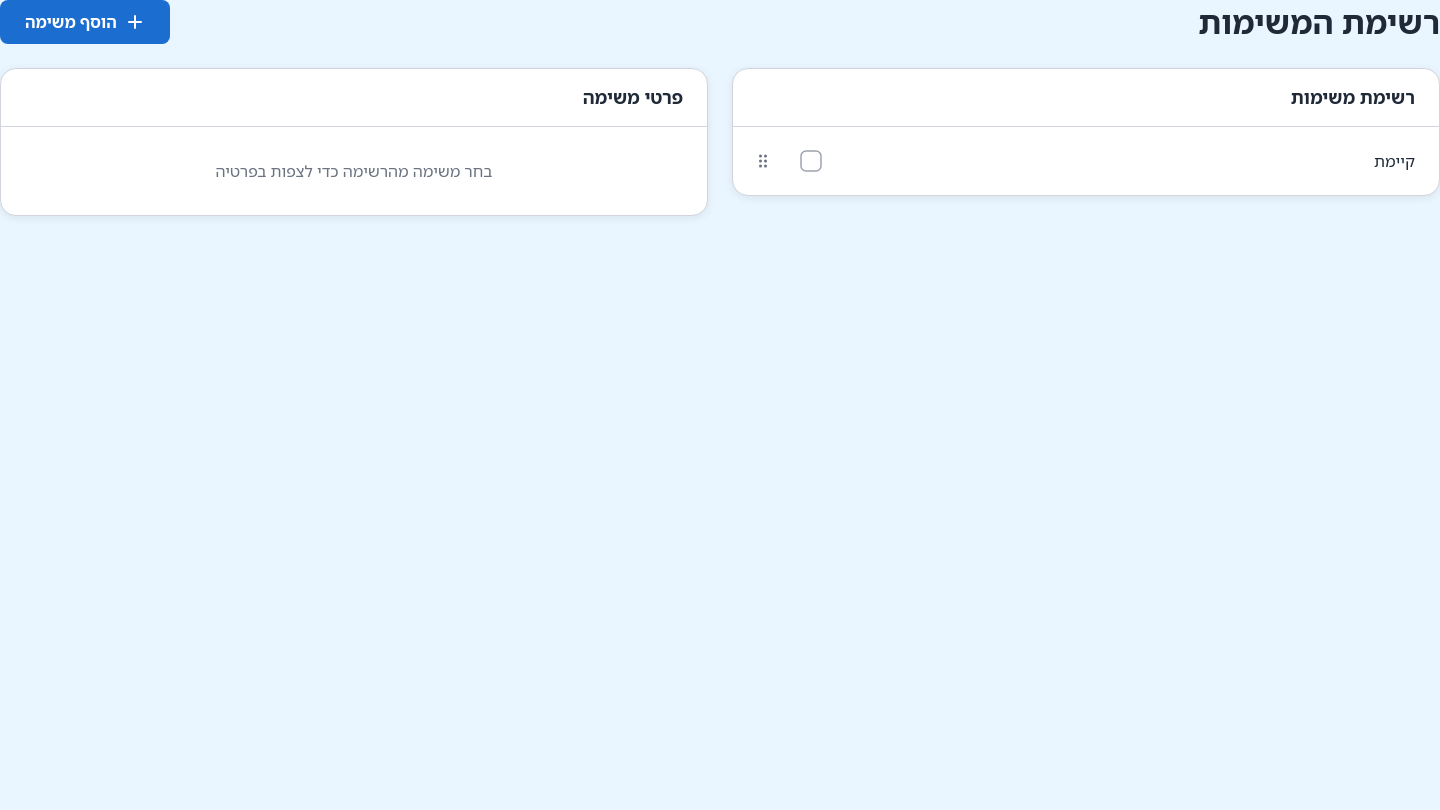
Test: create task modal › saves without a due date, adds the task at the end and selects it
Click the button "הוסף משימה" at x=85, y=22, box [0,0,170,44]
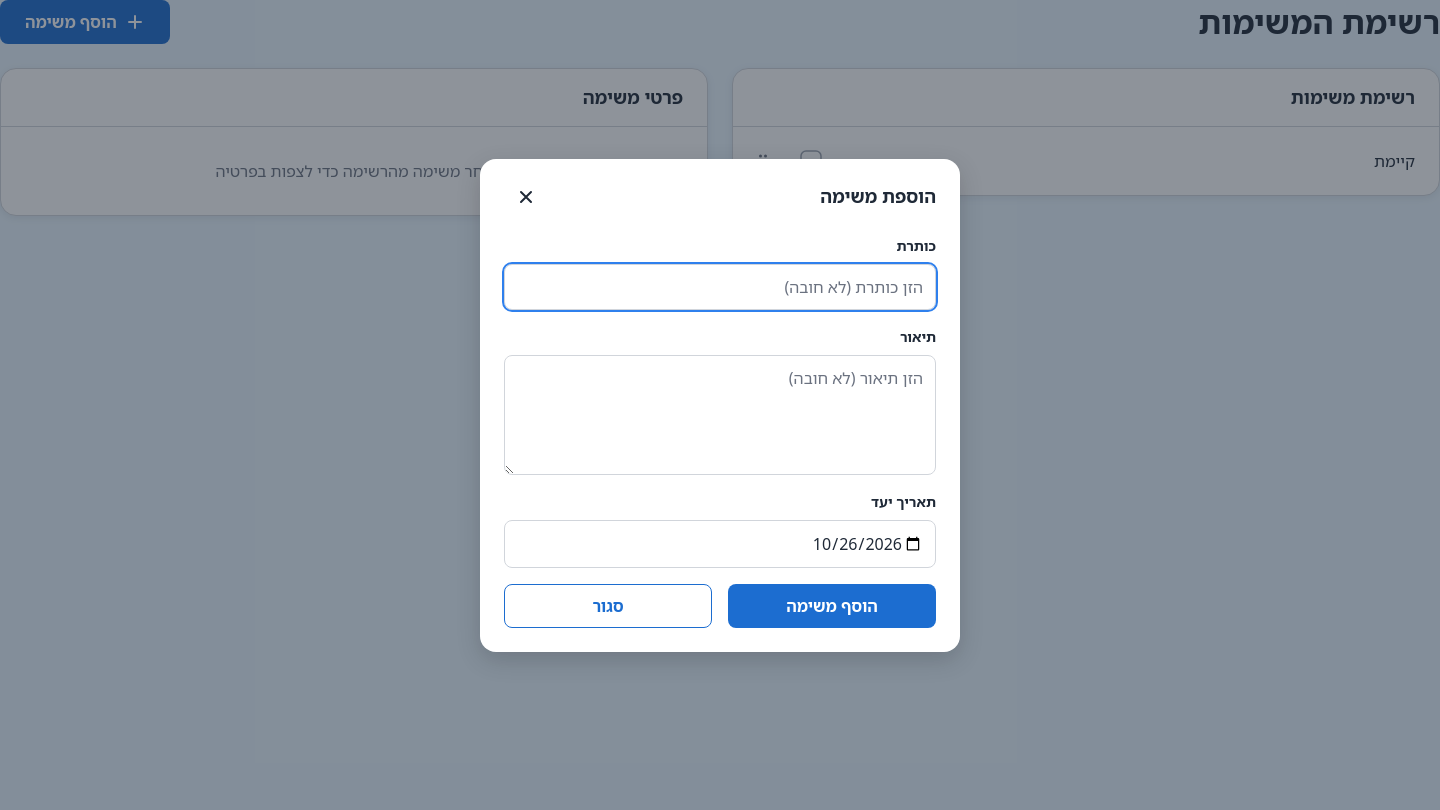
Type "  חדשה " into the field labelled "כותרת" at x=720, y=286, box [504,264,936,310]
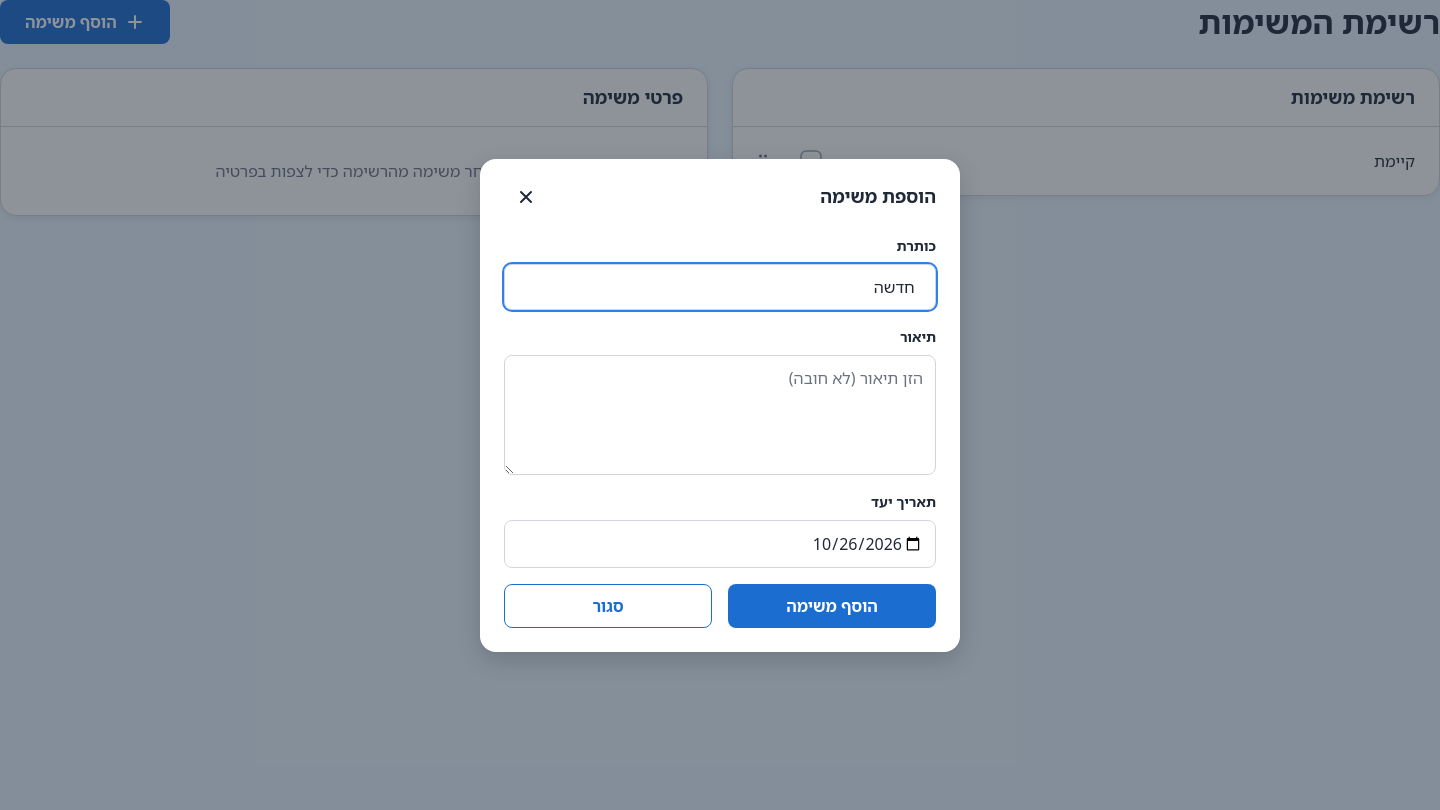
Clear the date field labelled "תאריך יעד" at x=720, y=544, box [504,520,936,568]
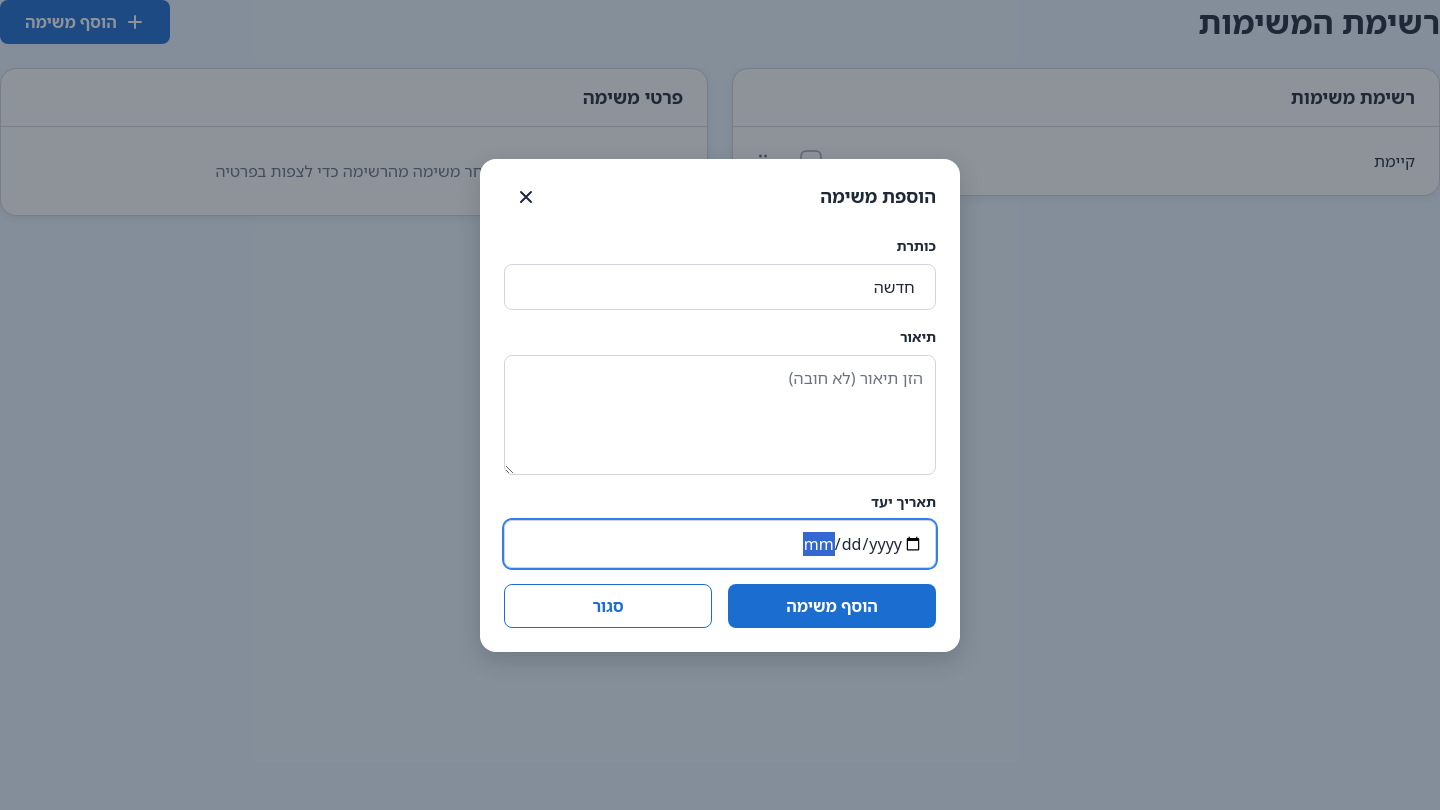
Click the button "הוסף משימה" at x=832, y=606, box [728,584,936,628]
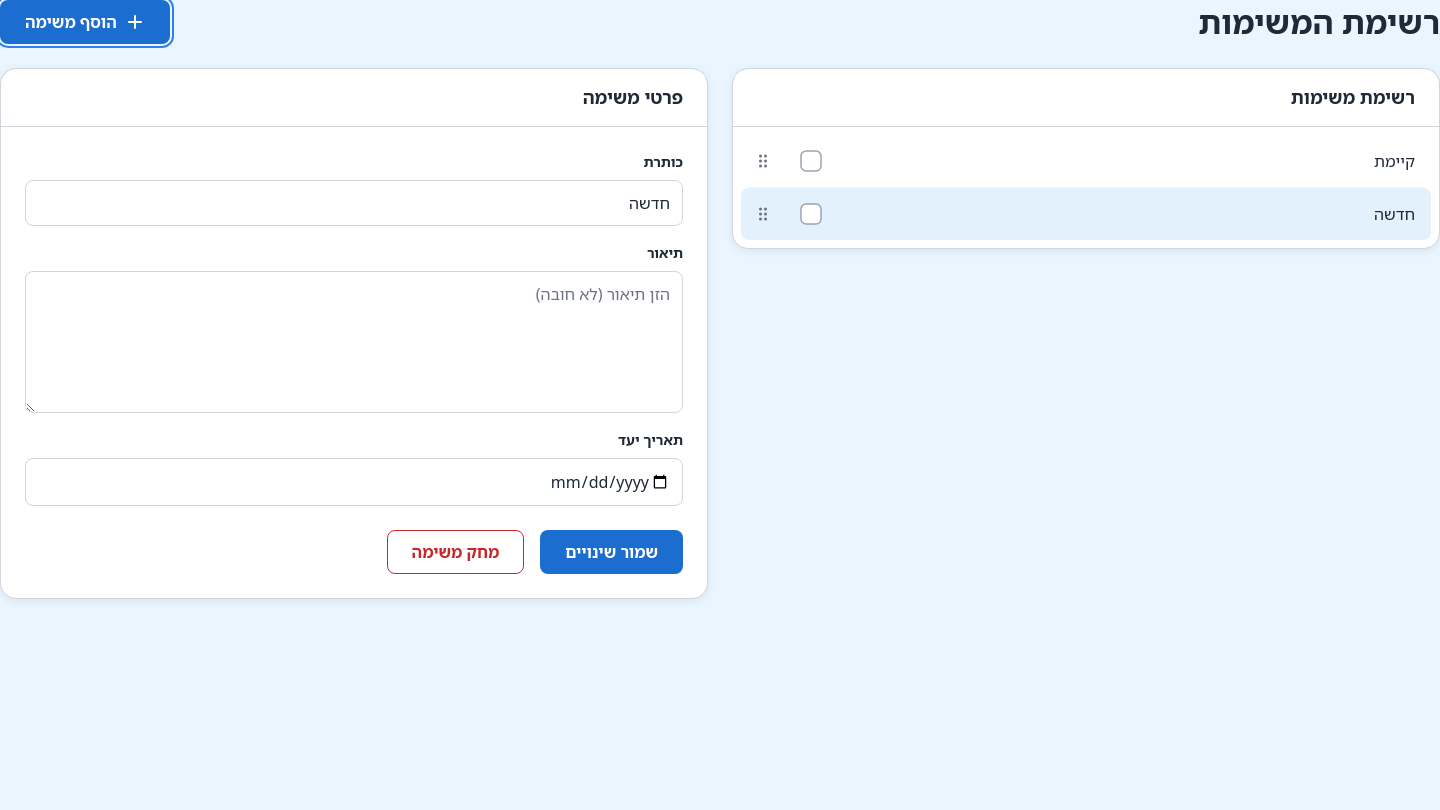
Now the dialog is gone
Now the elements with test id "task-row" read "קיימת", "חדשה", in this order, box [741,135,1431,187]; [741,188,1431,240]
Now the field labelled "כותרת" holds "חדשה", box [25,180,683,226]
